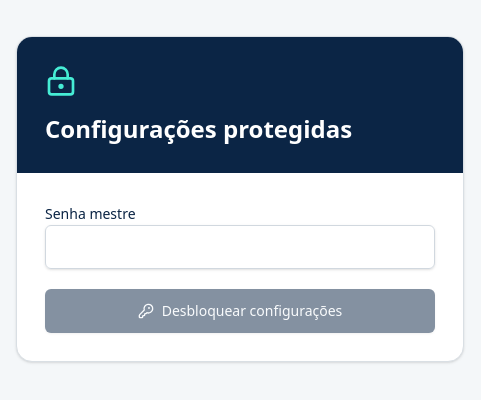
Test: mantém acesso fechado para senha incorreta e direciona o cadastro à tela de desenvolvedor
Later steps or results of the test are not shown.
Type "test-wrong-password" into the password field labelled "Senha mestre". click: coordinates (240, 246)
box: [45,224,435,268]
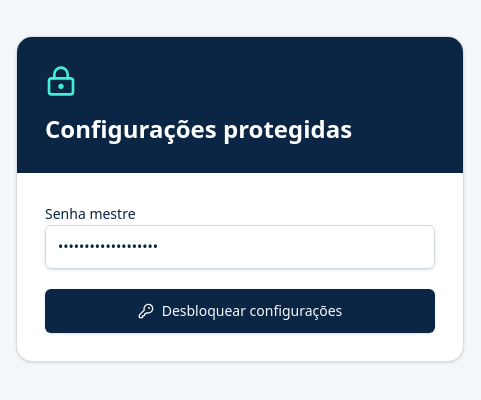
Click the button "Desbloquear configurações". click: coordinates (240, 310)
box: [45,288,435,332]
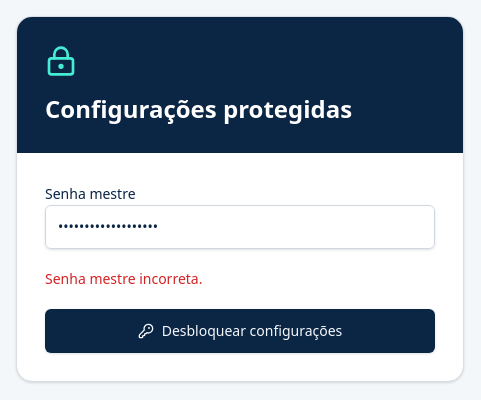
Expected: the message "Senha mestre incorreta." is shown, [45,268,202,288]
